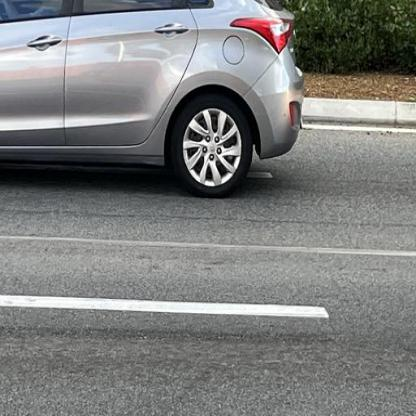Tire: (172, 94, 252, 200)
